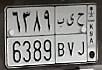3: (22, 10, 32, 64)
6: (11, 11, 22, 64)
8: (32, 10, 43, 63)
9: (42, 10, 52, 62)
B: (56, 17, 66, 59)
J: (76, 11, 86, 57)
V: (66, 13, 76, 56)
